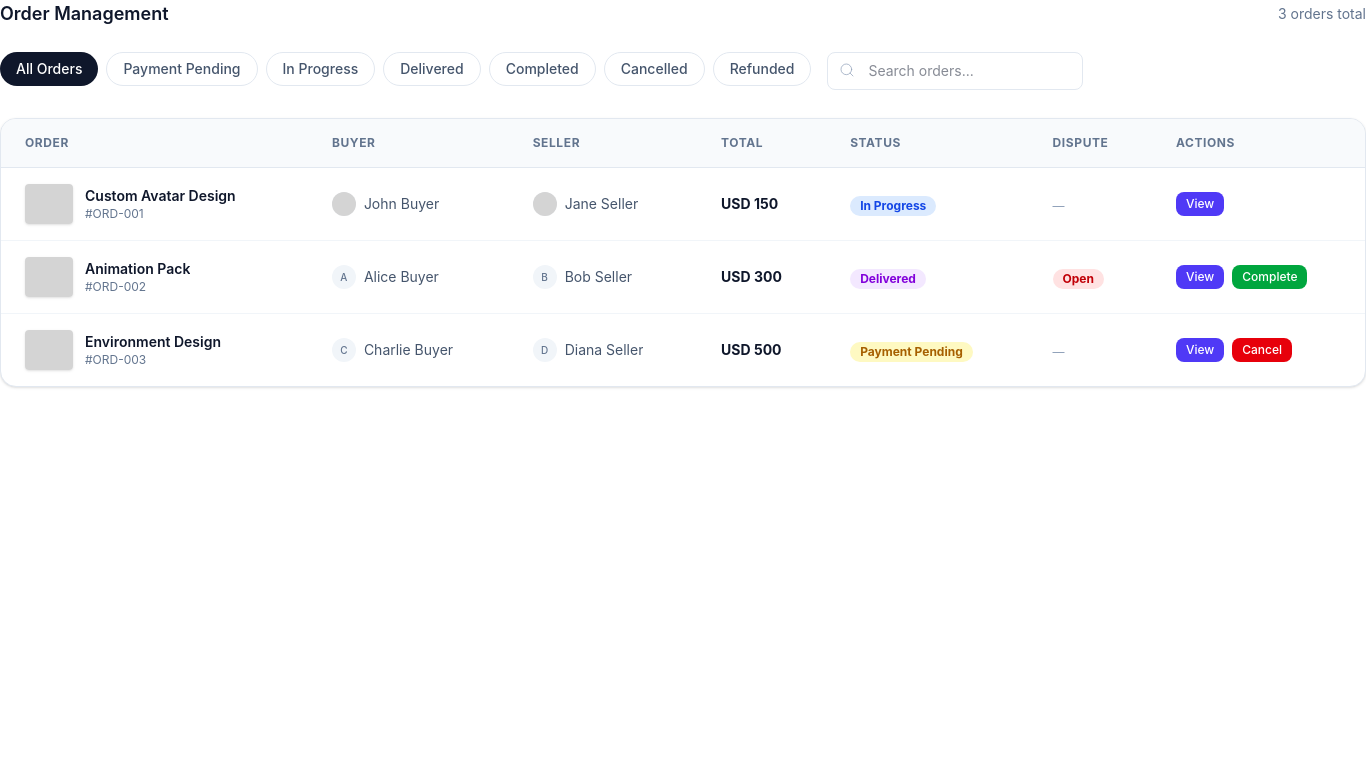
Test case: AdminOrderManagement › should open detail modal on View click
Click the button "View" in the row of "Custom Avatar Design" at (1200, 204), box [1176,192,1224,216]
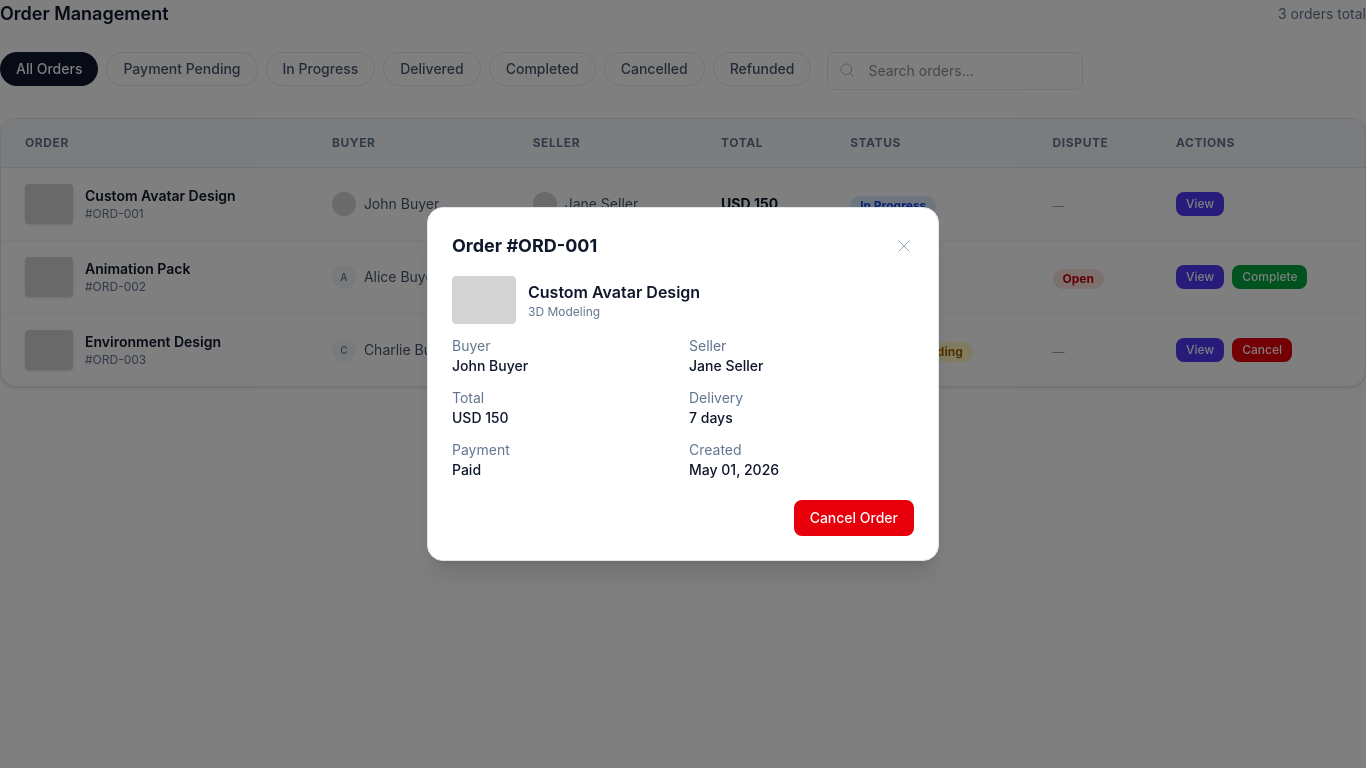
Expected: the heading "Order #ORD-001" is shown, [452,232,597,260]
